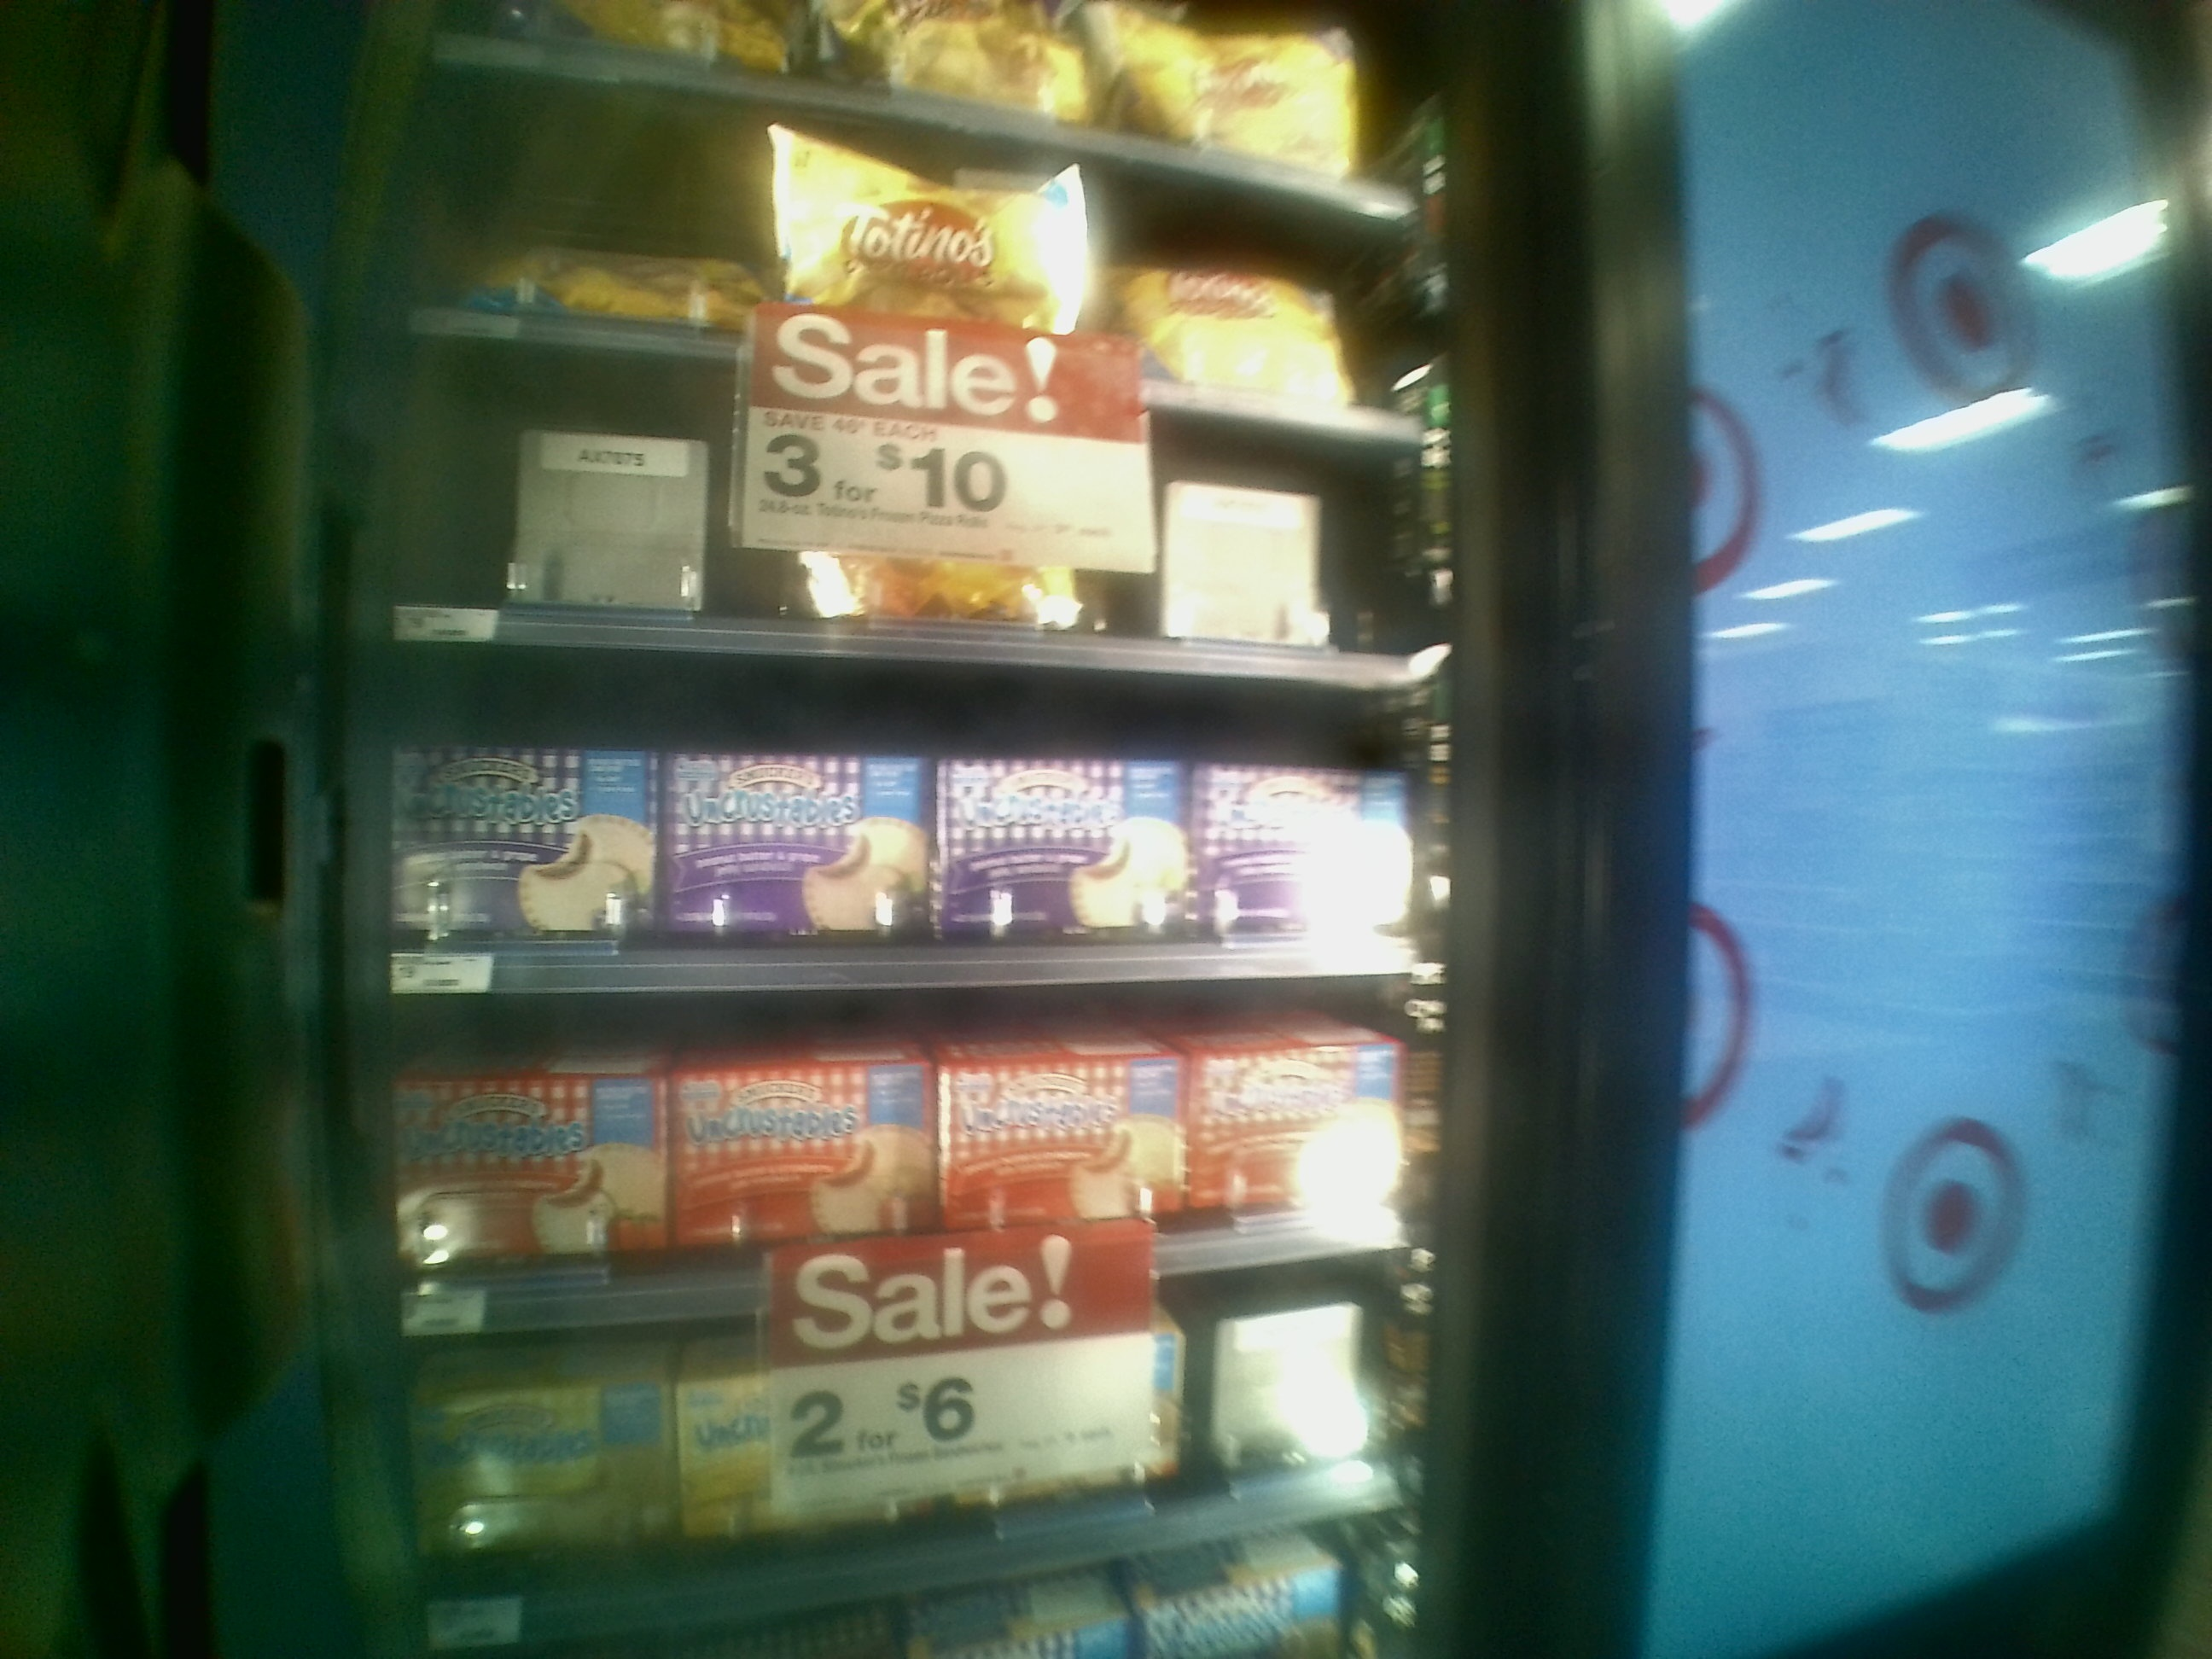shelf: (361, 622, 1451, 1000), (350, 978, 1444, 1283)
